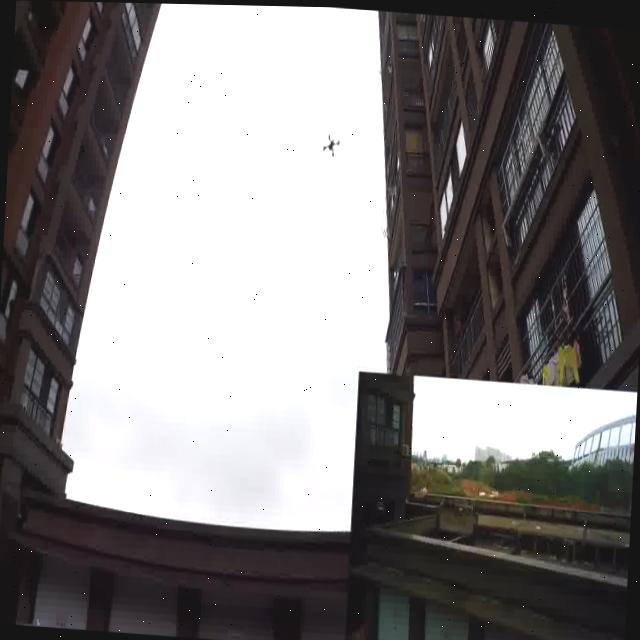drone: (318, 127, 342, 165)
